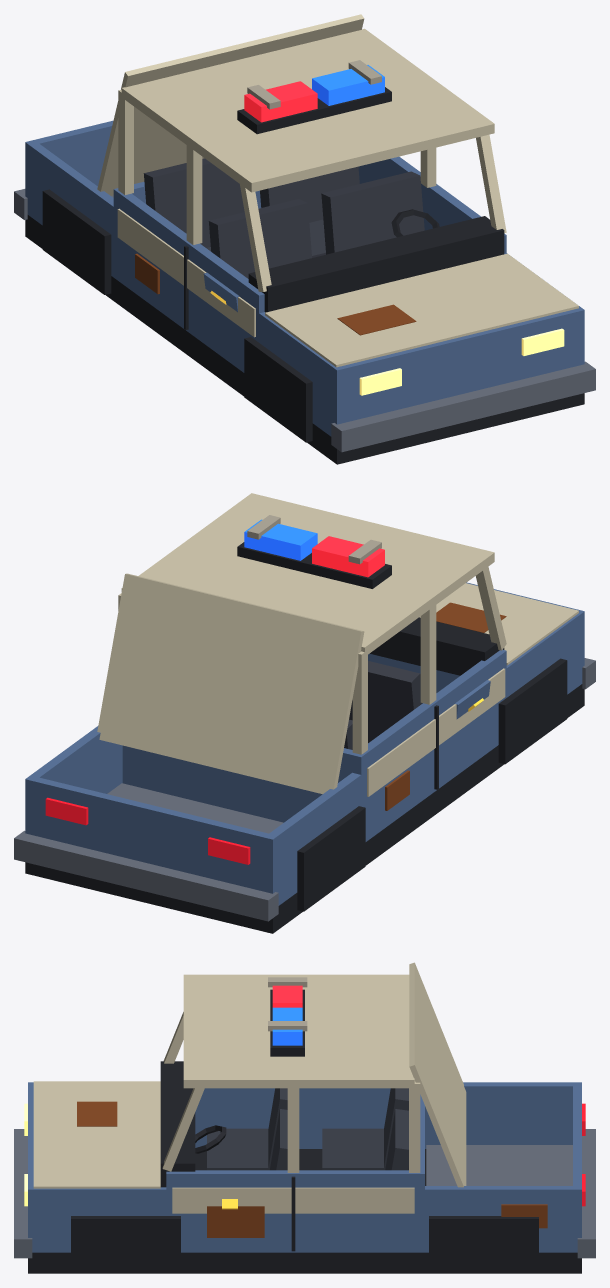
The model's file is old_patrol_car.glb.
3 views of the same model, one above another, from view 1: azimuth 30°, elevation 25°; view 2: azimuth 150°, elevation 25°; view 3: azimuth 270°, elevation 25° (orthographic). The views are drawn at different scales.
Visible parts, largest first — view 1: body_car_cream, body_police_faded, body_car_black, seats_seat, body_car_grey, trunk_car_cream, trunk_police_faded, frame_car_cream, body_rust, siren_car_black, siren_red_siren_red, siren_blue_siren_blue (+2 smaller); view 2: trunk_car_cream, body_car_cream, trunk_police_faded, body_police_faded, body_car_black, trunk_car_grey, frame_car_cream, seats_seat, siren_car_black, siren_red_siren_red, siren_blue_siren_blue, body_rust (+2 smaller); view 3: body_car_cream, body_police_faded, body_car_black, trunk_police_faded, seats_seat, trunk_car_grey, trunk_car_cream, frame_car_cream, body_rust, body_car_grey, siren_blue_siren_blue, siren_tape (+2 smaller).
Boxes of the visible parts, bbox=[...] form: body_car_cream: bbox=[117, 28, 578, 367]; body_police_faded: bbox=[113, 156, 584, 436]; body_car_black: bbox=[25, 189, 584, 464]; seats_seat: bbox=[143, 158, 424, 278]; body_car_grey: bbox=[331, 361, 595, 452]; trunk_car_cream: bbox=[97, 14, 364, 195]; trunk_police_faded: bbox=[25, 120, 116, 278]; frame_car_cream: bbox=[118, 89, 506, 291]; body_rust: bbox=[135, 253, 416, 335]; siren_car_black: bbox=[237, 87, 391, 134]; siren_red_siren_red: bbox=[244, 81, 317, 122]; siren_blue_siren_blue: bbox=[312, 65, 384, 105]; trunk_car_cream: bbox=[97, 573, 364, 794]; body_car_cream: bbox=[121, 493, 578, 796]; trunk_police_faded: bbox=[25, 726, 363, 905]; body_police_faded: bbox=[122, 582, 584, 841]; body_car_black: bbox=[25, 617, 584, 933]; trunk_car_grey: bbox=[14, 783, 283, 921]; frame_car_cream: bbox=[118, 566, 506, 754]; seats_seat: bbox=[344, 661, 422, 749]; siren_car_black: bbox=[237, 542, 391, 588]; siren_red_siren_red: bbox=[312, 536, 384, 577]; siren_blue_siren_blue: bbox=[244, 519, 317, 560]; body_rust: bbox=[385, 602, 506, 810]; body_car_cream: bbox=[33, 974, 414, 1213]; body_police_faded: bbox=[28, 1082, 424, 1252]; body_car_black: bbox=[28, 1061, 581, 1273]; trunk_police_faded: bbox=[420, 1082, 581, 1252]; seats_seat: bbox=[207, 1088, 408, 1170]; trunk_car_grey: bbox=[426, 1129, 595, 1258]; trunk_car_cream: bbox=[409, 962, 466, 1187]; frame_car_cream: bbox=[162, 1012, 420, 1172]; body_rust: bbox=[77, 1101, 547, 1237]; body_car_grey: bbox=[14, 1129, 32, 1258]; siren_blue_siren_blue: bbox=[272, 1007, 302, 1045]; siren_tape: bbox=[268, 977, 307, 1031].
Size of the model in its own units: 2.35 by 2.08 by 5.04.
